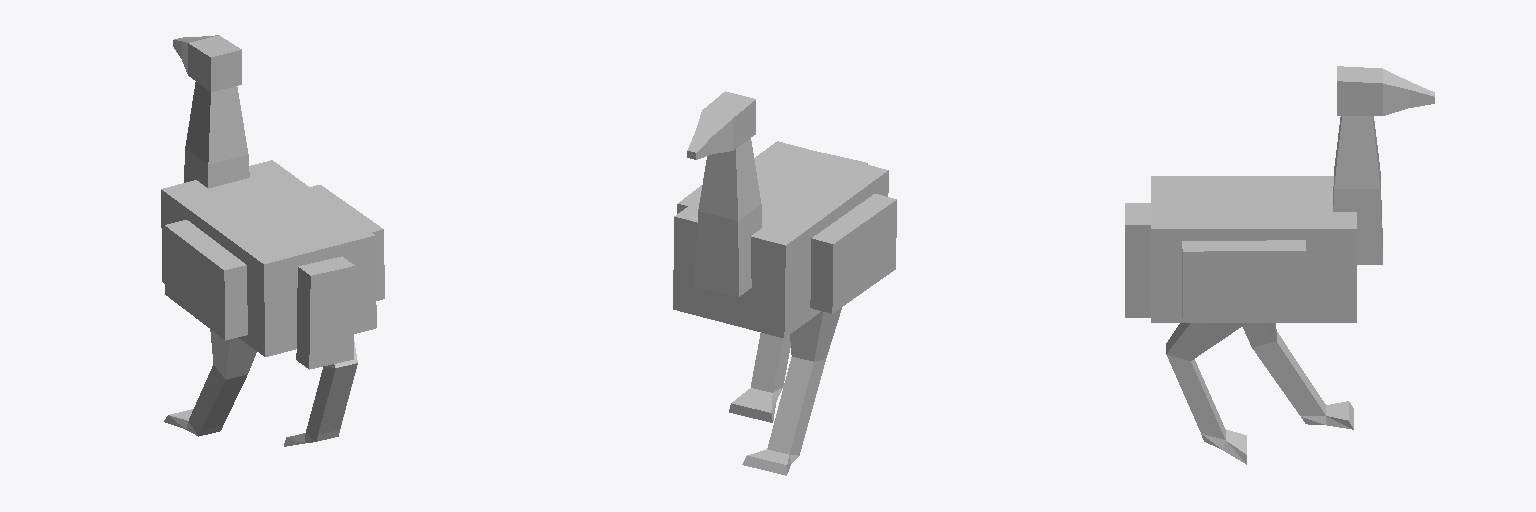
The model's file is Ostrich_000208.obj.
3 renders of one model, left to right at view 1: azimuth 30°, elevation 25°; view 2: azimuth 150°, elevation 25°; view 3: azimuth 270°, elevation 25°, orthographic.
Parts seen in each view (by area): view 1: Cube_Cube.001; view 2: Cube_Cube.001; view 3: Cube_Cube.001.
Part boxes in pixels (x1,y1,x2,y2): Cube_Cube.001: (161,35,384,446); Cube_Cube.001: (673,91,896,475); Cube_Cube.001: (1125,66,1434,464).
Size of the model in its own units: 0.7206 by 1.56 by 1.2.